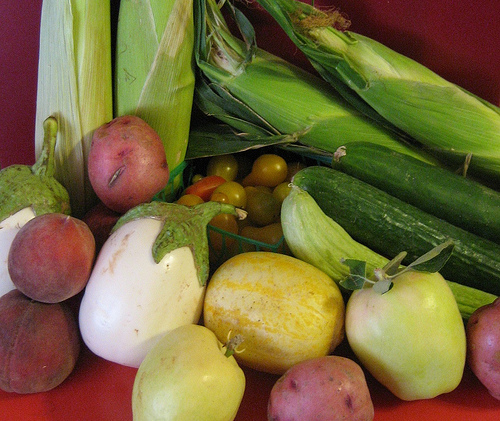cucumber: (284, 161, 498, 298), (331, 142, 498, 226)
